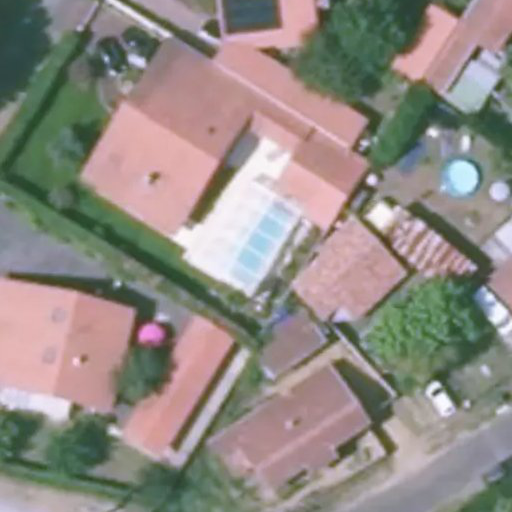pool: (207, 183, 296, 300), (442, 158, 484, 195)
